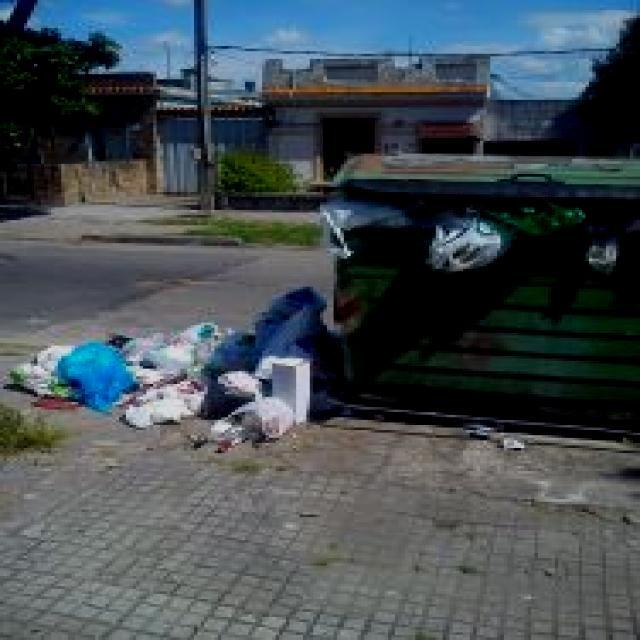high trash: (10, 288, 336, 448)
